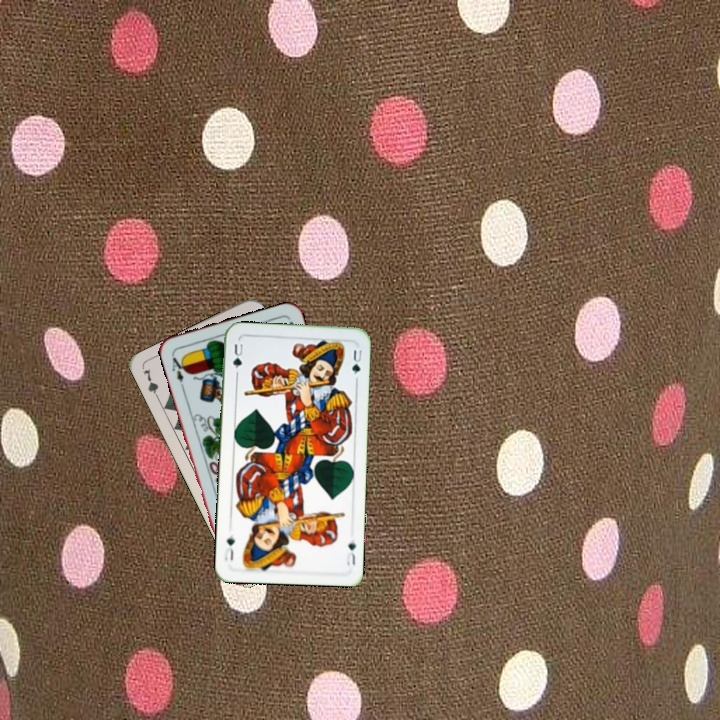EA: (167, 350, 189, 385)
G7: (139, 364, 163, 404)
GU: (342, 535, 358, 568), (229, 340, 245, 371)
